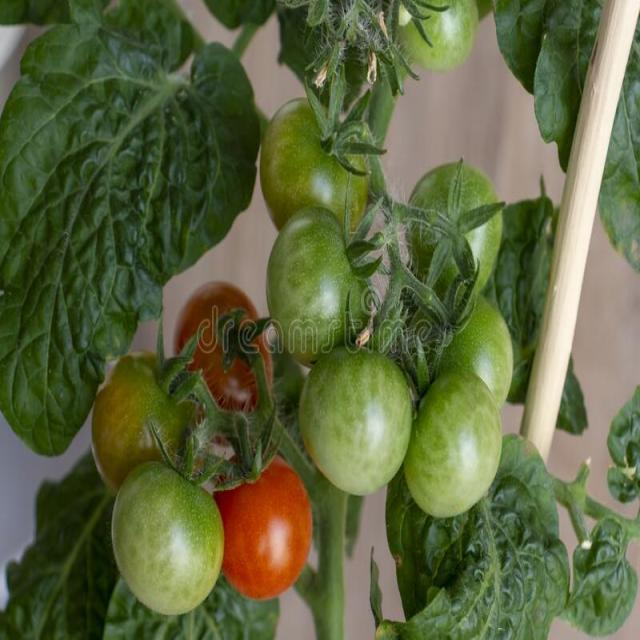kirmizi: (202, 442, 324, 598)
yesil: (400, 274, 530, 524), (270, 100, 372, 346), (100, 458, 220, 602)
